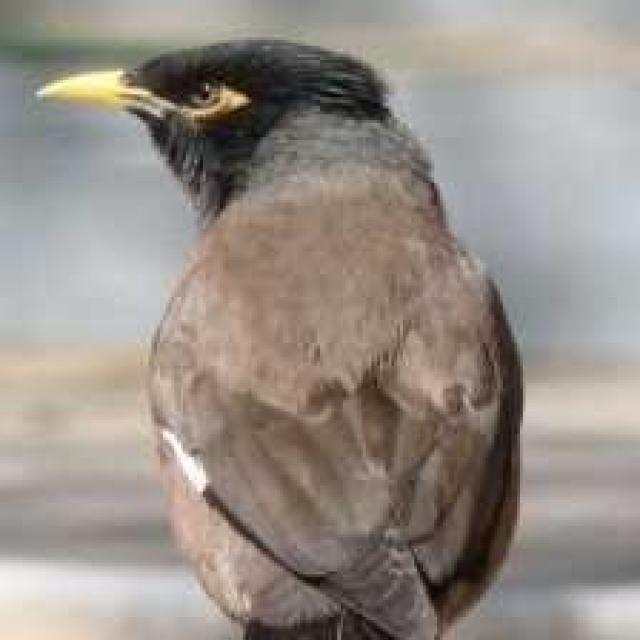bird: (31, 30, 527, 640)
